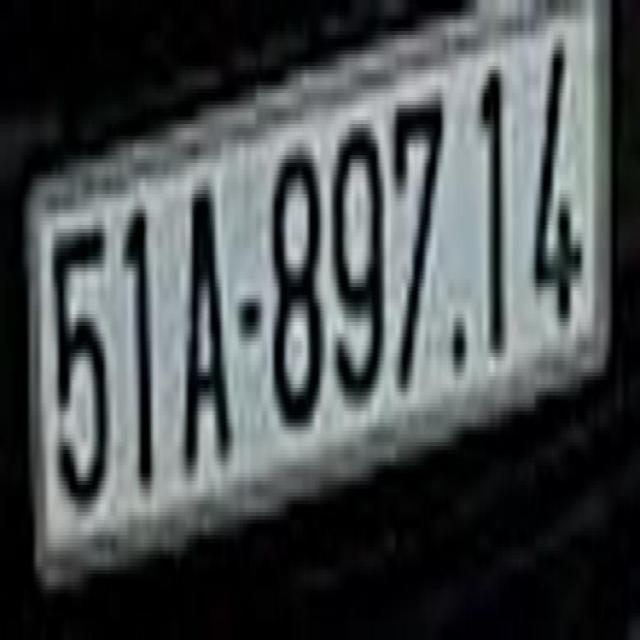1: (472, 31, 519, 388), (118, 182, 165, 516)
4: (528, 38, 587, 364)
5: (49, 190, 109, 535)
7: (387, 58, 447, 400)
8: (272, 136, 328, 450)
9: (328, 70, 387, 427)
A: (176, 163, 240, 496)
